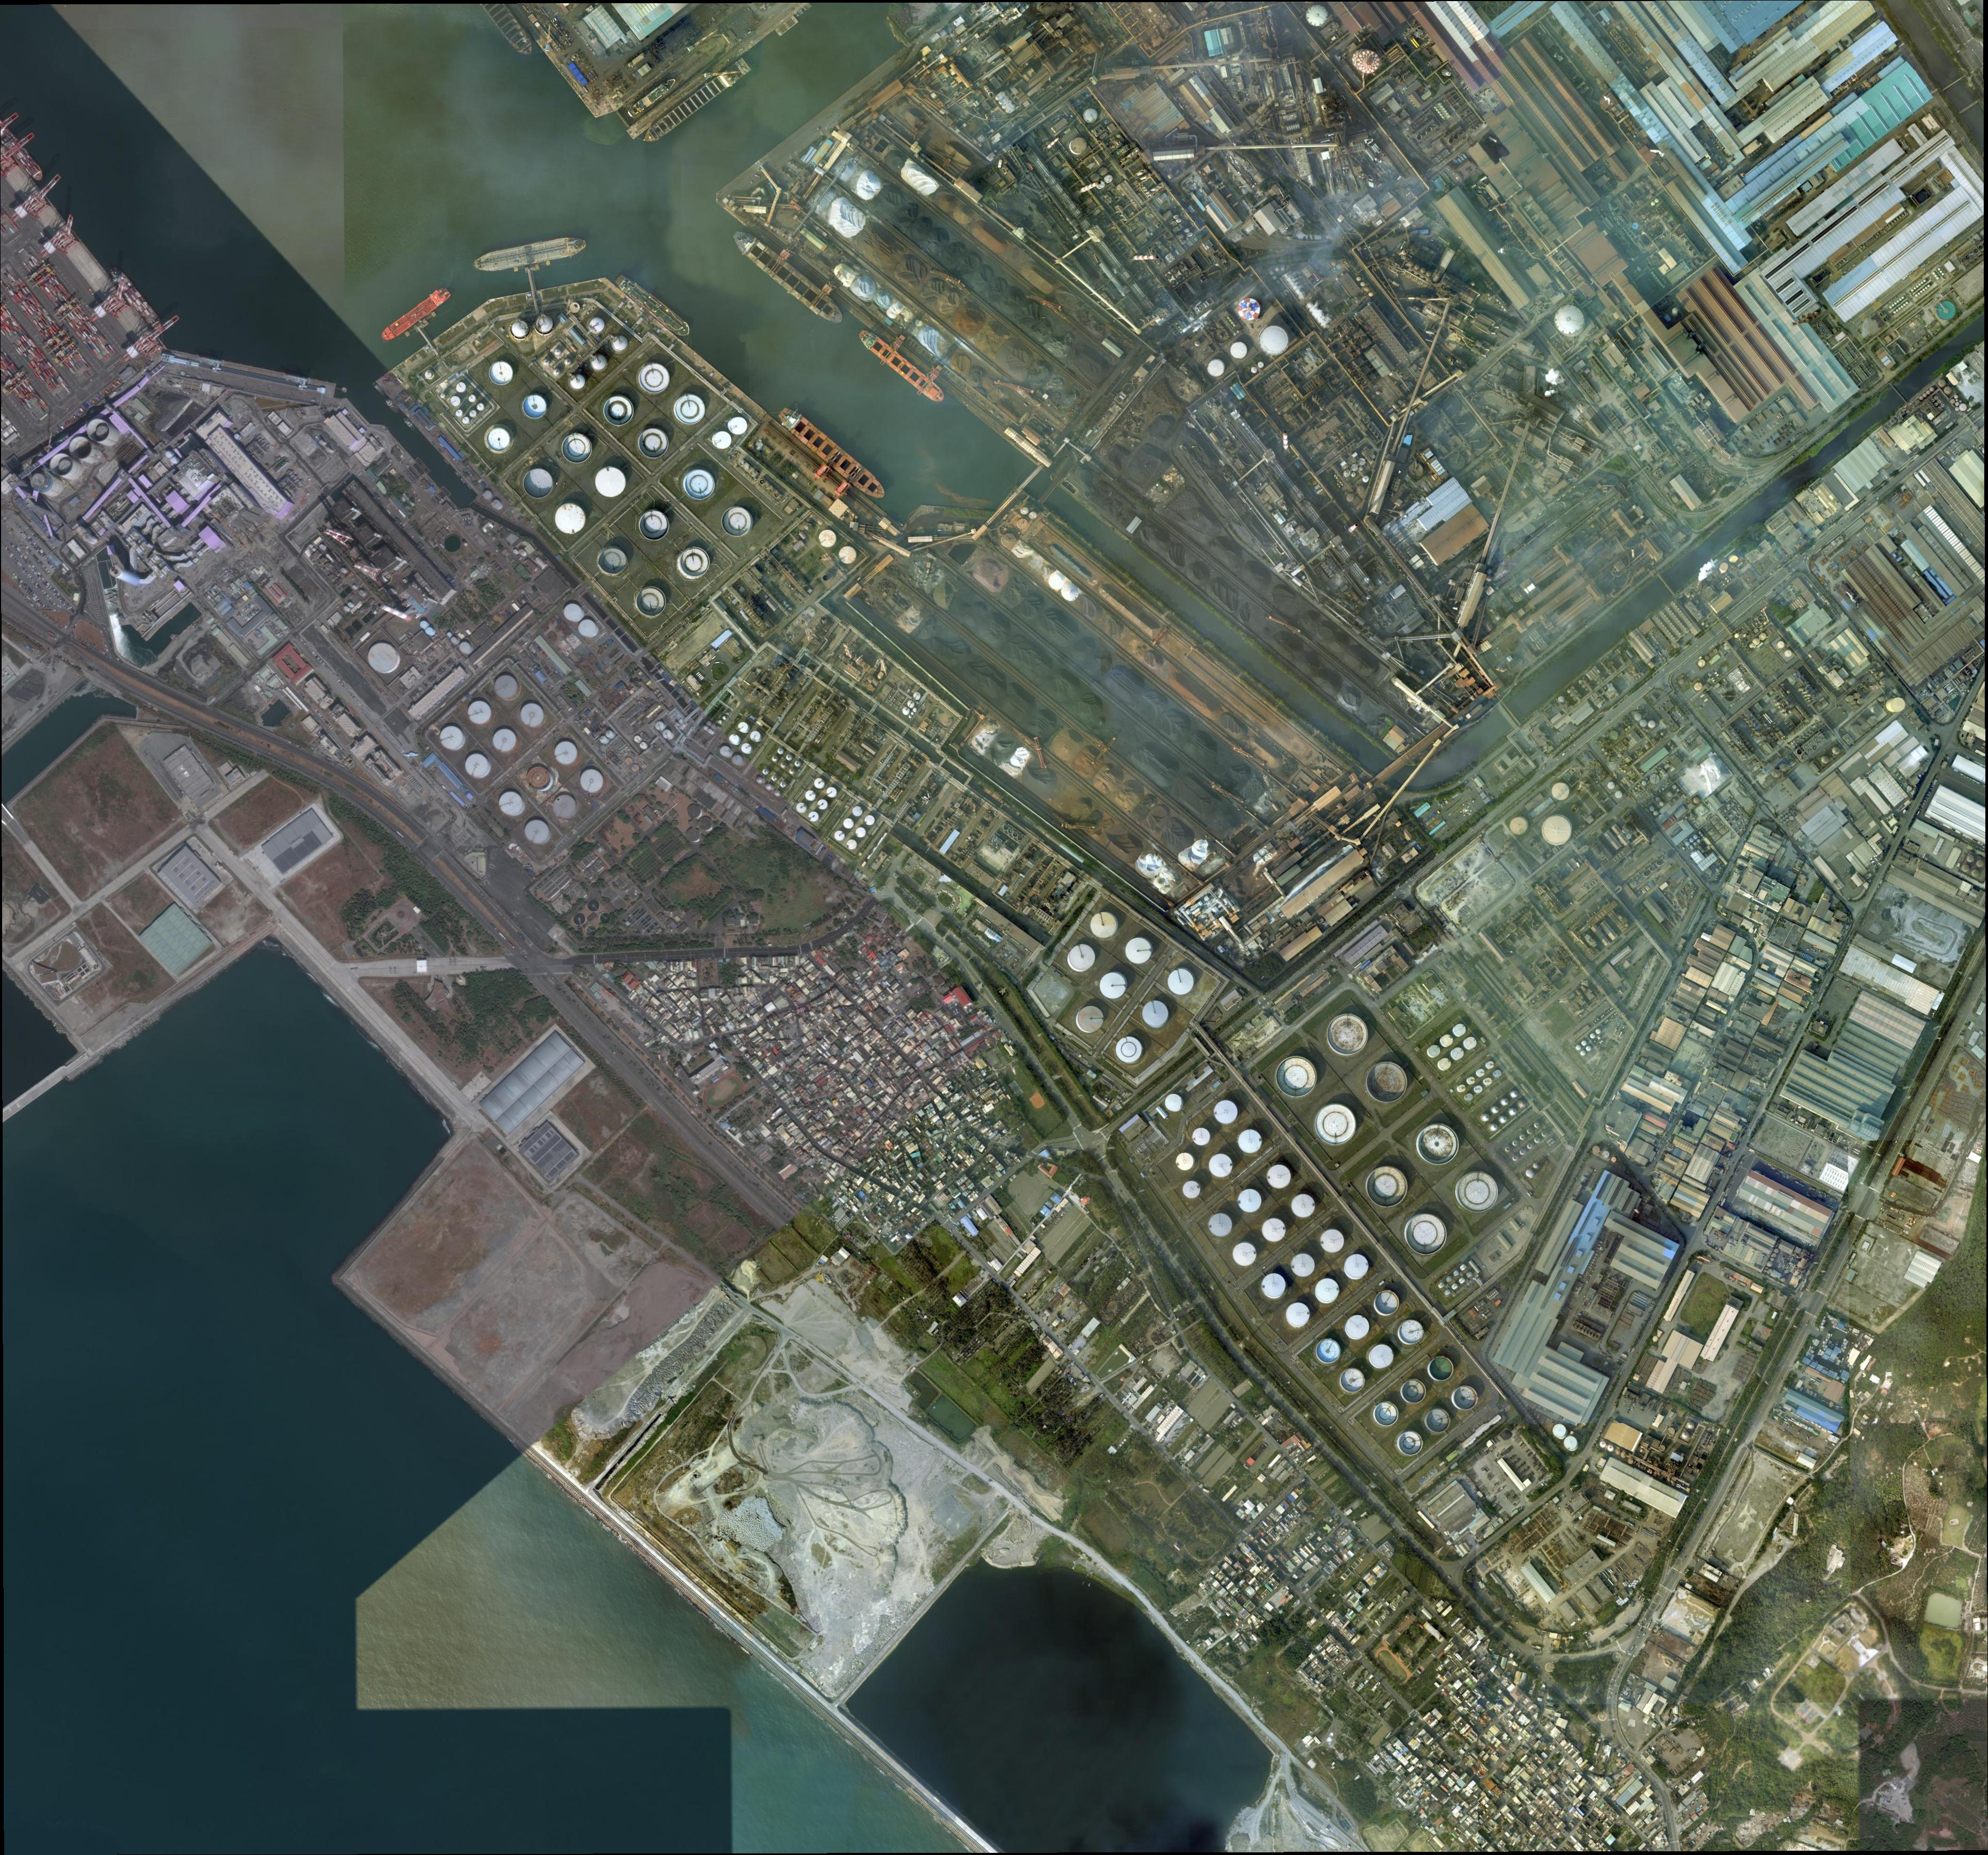ship: (729, 225, 848, 330), (774, 403, 889, 504), (640, 58, 752, 146), (856, 326, 949, 406), (614, 272, 692, 340), (473, 234, 588, 275), (378, 286, 453, 345), (108, 265, 166, 333), (480, 3, 541, 61), (628, 75, 678, 119), (384, 398, 401, 415), (371, 382, 385, 396), (403, 417, 417, 431)
